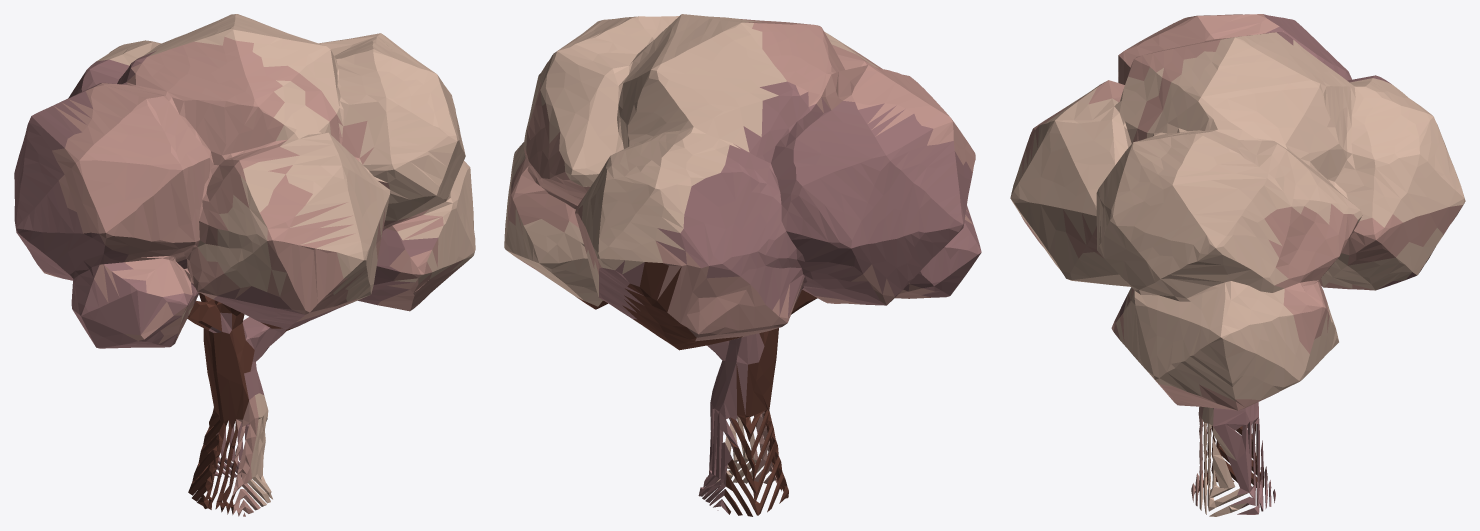
Rendered from tree_cherry.glb.
3 renders of one model, left to right at view 1: azimuth 30°, elevation 25°; view 2: azimuth 150°, elevation 25°; view 3: azimuth 270°, elevation 25°, orthographic. The views are drawn at different scales.
Visible parts, largest first — view 1: geometry_0; view 2: geometry_0; view 3: geometry_0.
Part boxes in pixels (bbox=[...]): geometry_0: bbox=[14, 14, 475, 516]; geometry_0: bbox=[504, 14, 981, 516]; geometry_0: bbox=[1010, 14, 1465, 516].
Size of the model in its own units: 1.98 by 1.98 by 1.75.
